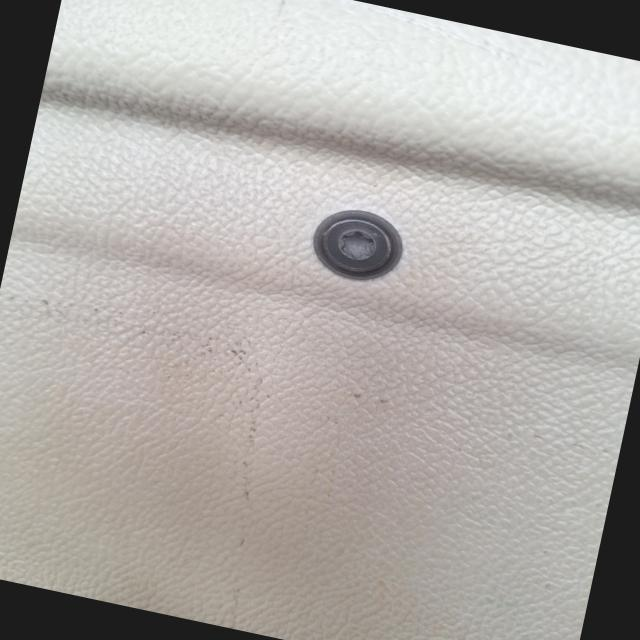Torx: (305, 200, 408, 287)
